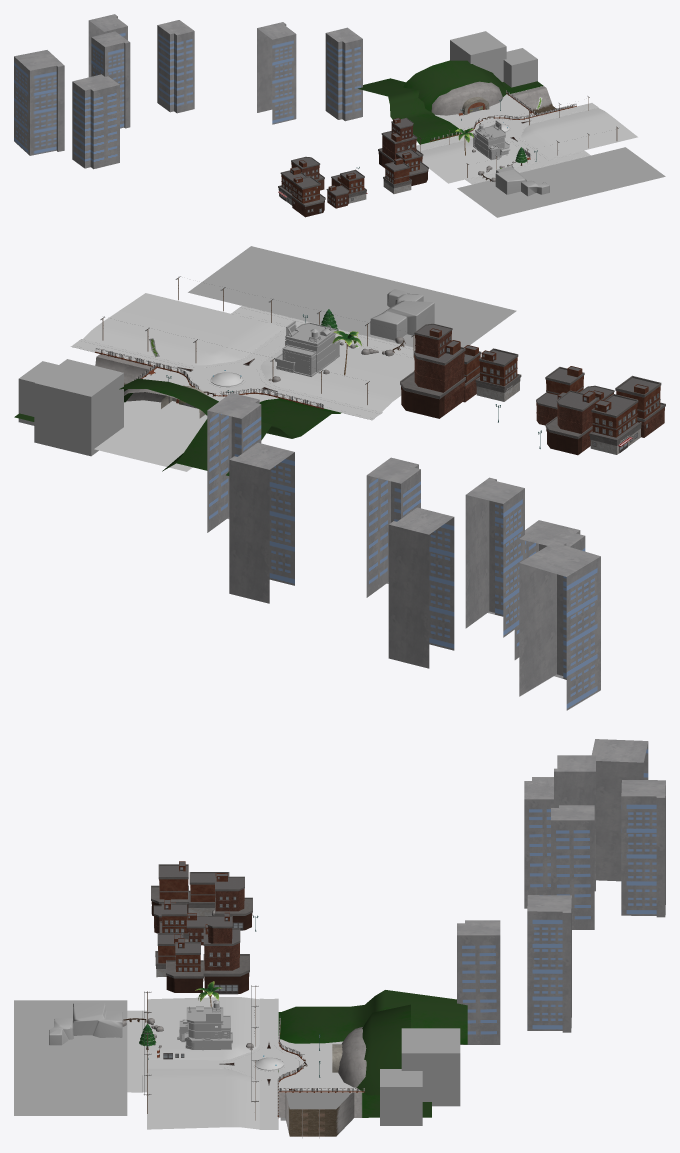
File: beta.fbx
The picture shows the model from 3 angles, top to bottom: view 1: azimuth 30°, elevation 25°; view 2: azimuth 150°, elevation 25°; view 3: azimuth 270°, elevation 25°; orthographic projection. The views are drawn at different scales.
Visible parts, largest first — view 1: pCube32, polySurface464, polySurface571, polySurface570, polySurface572, polySurface328, polySurface567, polySurface573, polySurface337, pPlane40, polySurface359, polySurface568 (+10 smaller); view 2: polySurface464, pCube32, polySurface571, polySurface569, polySurface572, polySurface328, polySurface568, pCube48, polySurface337, pPlane7, polySurface567, polySurface573 (+9 smaller); view 3: polySurface464, pCube32, polySurface328, polySurface572, polySurface569, pPlane40, polySurface573, polySurface571, polySurface567, polySurface337, pCube48, polySurface339 (+11 smaller).
Boxes of the visible parts, x1,y1,x2,y2 form: pCube32: [457, 147, 665, 217]; polySurface464: [278, 118, 428, 217]; polySurface571: [14, 50, 64, 155]; polySurface570: [72, 74, 119, 169]; polySurface572: [257, 22, 296, 124]; polySurface328: [521, 108, 637, 158]; polySurface567: [157, 20, 194, 113]; polySurface573: [325, 27, 362, 121]; polySurface337: [420, 138, 536, 183]; pPlane40: [358, 78, 459, 144]; polySurface359: [403, 60, 508, 111]; polySurface568: [91, 31, 130, 128]; polySurface464: [400, 323, 665, 455]; pCube32: [188, 246, 516, 347]; polySurface571: [519, 540, 600, 710]; polySurface569: [388, 507, 454, 668]; polySurface572: [229, 442, 294, 603]; polySurface328: [83, 293, 285, 365]; polySurface568: [465, 477, 524, 637]; pCube48: [34, 359, 123, 456]; polySurface337: [260, 340, 414, 411]; pPlane7: [94, 368, 278, 471]; polySurface567: [366, 457, 420, 597]; polySurface573: [207, 392, 261, 532]; polySurface464: [151, 861, 258, 994]; pCube32: [14, 1000, 127, 1115]; polySurface328: [147, 1068, 259, 1129]; polySurface572: [527, 895, 571, 1032]; polySurface569: [621, 780, 665, 917]; pPlane40: [278, 990, 467, 1044]; polySurface573: [457, 920, 500, 1044]; polySurface571: [592, 739, 648, 881]; polySurface567: [551, 805, 594, 929]; polySurface337: [147, 997, 259, 1060]; pCube48: [401, 1028, 460, 1106]; polySurface339: [131, 999, 299, 1129].
Size of the model in its own units: 1717 by 394 by 1535.
